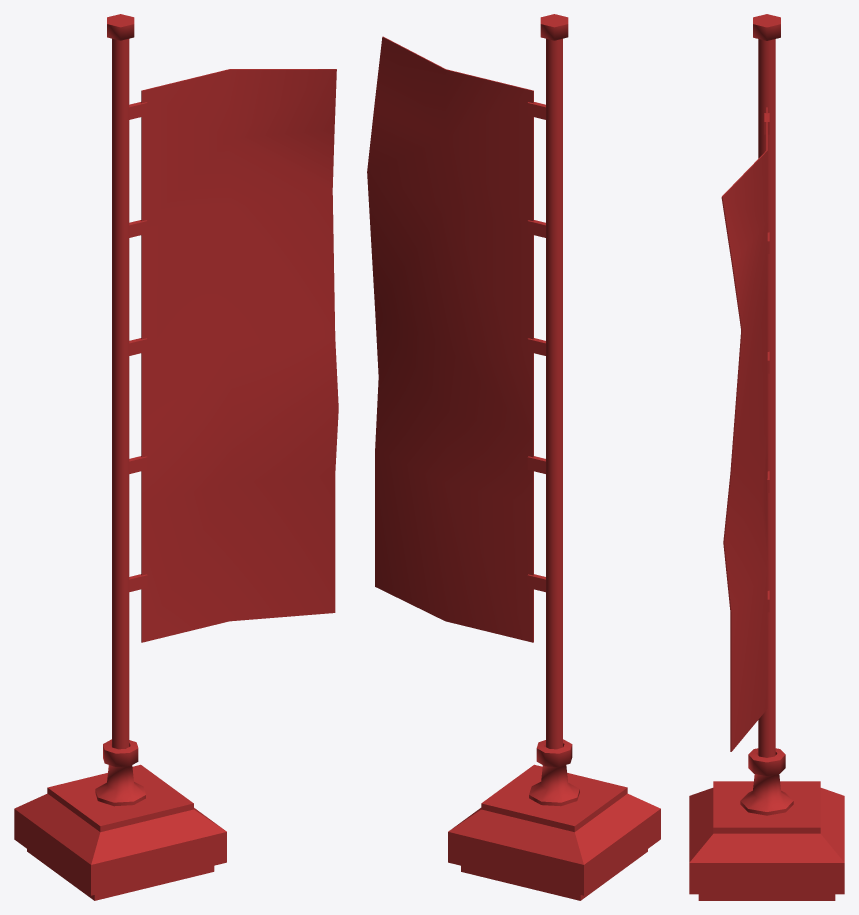
The model's file is SM_flag_shop_03.fbx.
3 renders of one model, left to right at view 1: azimuth 30°, elevation 25°; view 2: azimuth 150°, elevation 25°; view 3: azimuth 270°, elevation 25°, orthographic.
Visible parts, largest first — view 1: Object32356; view 2: Object32356; view 3: Object32356.
Boxes of the visible parts, <box> form: Object32356: <box>14,14,338,900</box>; Object32356: <box>367,14,660,900</box>; Object32356: <box>689,14,844,900</box>.
Size of the model in its own units: 40.43 by 121 by 20.14.
